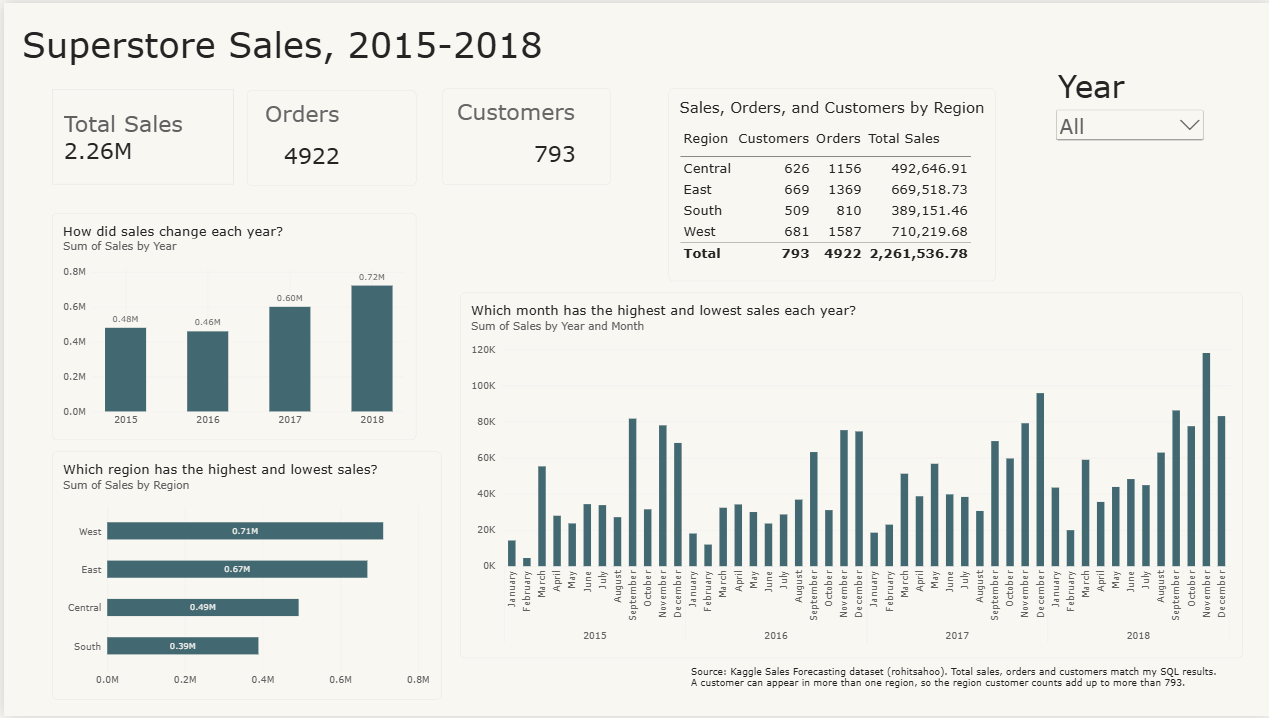

What the dashboard file says about the page in this screenshot:
{"tool":"powerbi","page":{"name":"Page 1","canvas":[1920,1080],"ordinal":0},"visuals":[{"type":"cardVisual","fields":{"Data":["Sum(train.Sales)"]},"box":[72,130,276,146],"z":0},{"type":"tableEx","title":"Orders","fields":{"Values":["train.Order ID"]},"box":[368,132,256.7,145.4],"z":1000},{"type":"tableEx","title":"Customers","fields":{"Values":["train.Customer ID"]},"box":[662.9,130.3,256,146.3],"z":2000},{"type":"clusteredColumnChart","title":"Which month has the highest and lowest sales each year?","fields":{"Category":["train.Order Date.Variation.Date Hierarchy.Year","train.Order Date.Variation.Date Hierarchy.Month"],"Y":["Sum(train.Sales)"]},"box":[692,438,1186,554],"z":3000},{"type":"tableEx","title":"Sales, Orders, and Customers by Region","fields":{"Values":["train.Region","train.Customer ID","train.Order ID","Sum(train.Sales)"]},"box":[1006,130,496,292],"z":4000},{"type":"clusteredBarChart","title":"Which region has the highest and lowest sales?","fields":{"Category":["train.Region"],"Y":["Sum(train.Sales)"]},"box":[72,680,590,376],"z":5000},{"type":"slicer","fields":{"Values":["train.Order Date.Variation.Date Hierarchy.Year"]},"box":[1588,98,234,178],"z":6000},{"type":"clusteredColumnChart","title":"How did sales change each year?","fields":{"Category":["train.Order Date.Variation.Date Hierarchy.Year"],"Y":["Sum(train.Sales)"]},"box":[72,318,552,344],"z":7000},{"type":"textbox","box":[28,30,844,72],"z":8000},{"type":"textbox","box":[1040,1005,836.9,36.1],"z":9000}]}

Visuals, with their boxes in screenshot pixels (x1, y1, x2, y2), scaled from the page's 1920x1080 canvas onto the 1269x718 screenshot:
cardVisual - Sum(train.Sales): pyautogui.locateOnScreen(48, 86, 230, 183)
"Orders" tableEx: pyautogui.locateOnScreen(243, 88, 413, 184)
"Customers" tableEx: pyautogui.locateOnScreen(438, 87, 607, 184)
"Which month has the highest and lowest sales each year?" clusteredColumnChart: pyautogui.locateOnScreen(457, 291, 1241, 659)
"Sales, Orders, and Customers by Region" tableEx: pyautogui.locateOnScreen(665, 86, 993, 281)
"Which region has the highest and lowest sales?" clusteredBarChart: pyautogui.locateOnScreen(48, 452, 438, 702)
slicer - train.Order Date.Variation.Date Hierarchy.Year: pyautogui.locateOnScreen(1050, 65, 1204, 183)
"How did sales change each year?" clusteredColumnChart: pyautogui.locateOnScreen(48, 211, 412, 440)
textbox: pyautogui.locateOnScreen(19, 20, 576, 68)
textbox: pyautogui.locateOnScreen(687, 668, 1241, 692)
